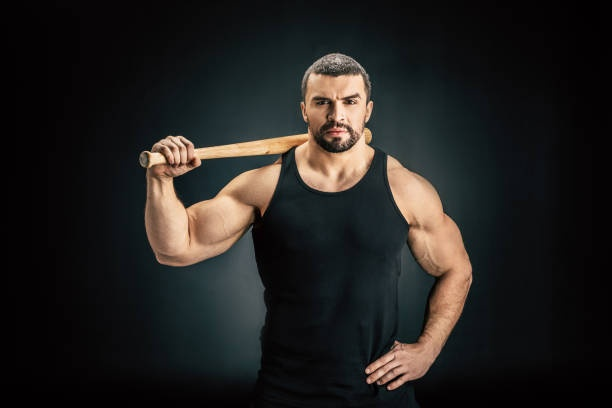bita: (139, 133, 306, 167)
